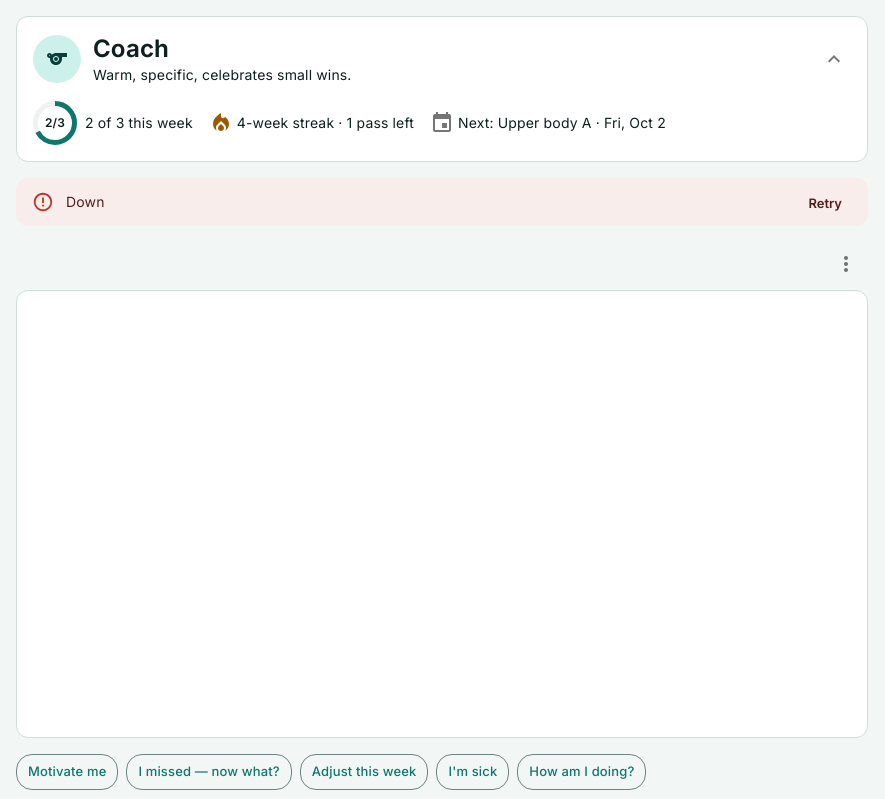
Test case: CoachPage › timeline › shows an inline alert with retry when the timeline fails to load
The width and height of the screenshot is (885, 799).
Expected: the text "Down" is shown, top-left (66, 193), bottom-right (105, 210)
Step 1. Click the button "Retry" → {"x": 825, "y": 203}, box top-left (790, 188), bottom-right (860, 219)
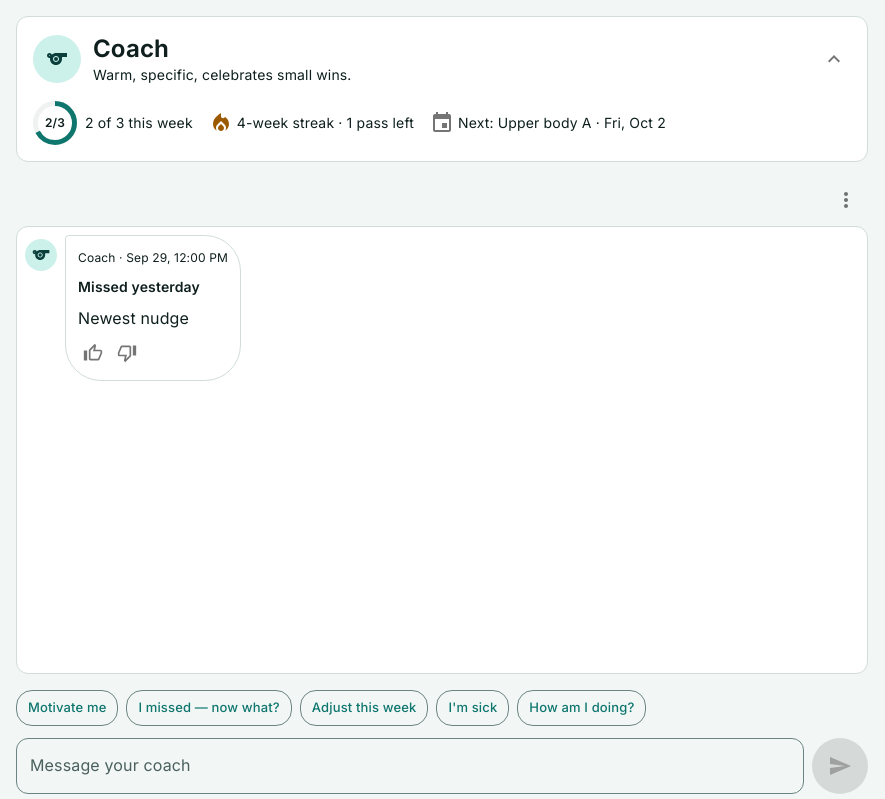
Expected: the text "Newest nudge" is shown, top-left (78, 308), bottom-right (189, 328)
